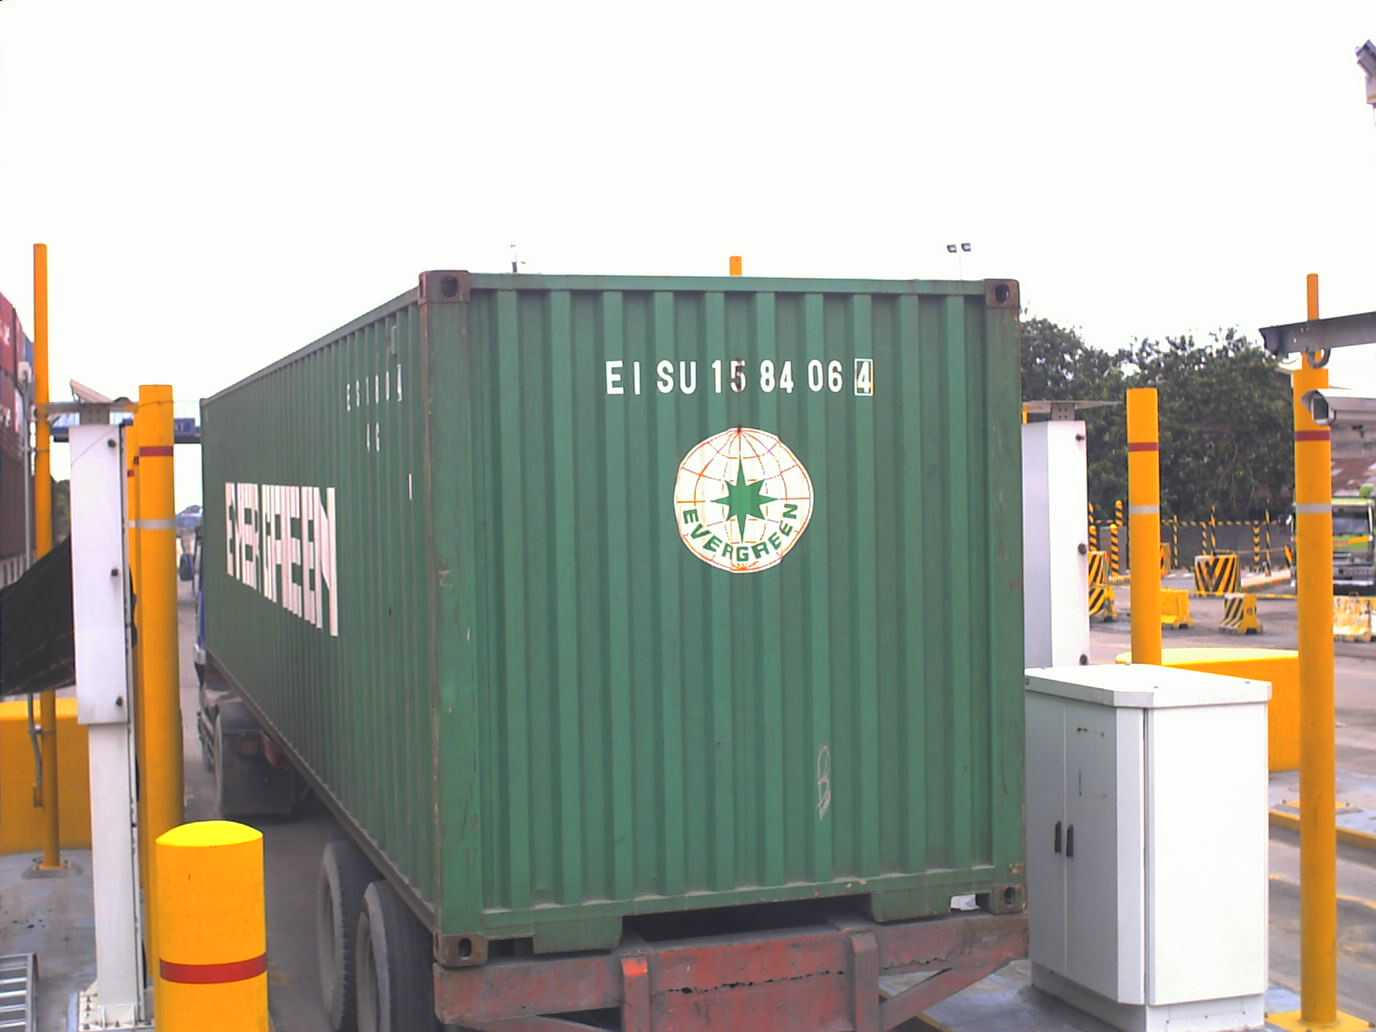container_door: (412, 246, 1029, 924)
